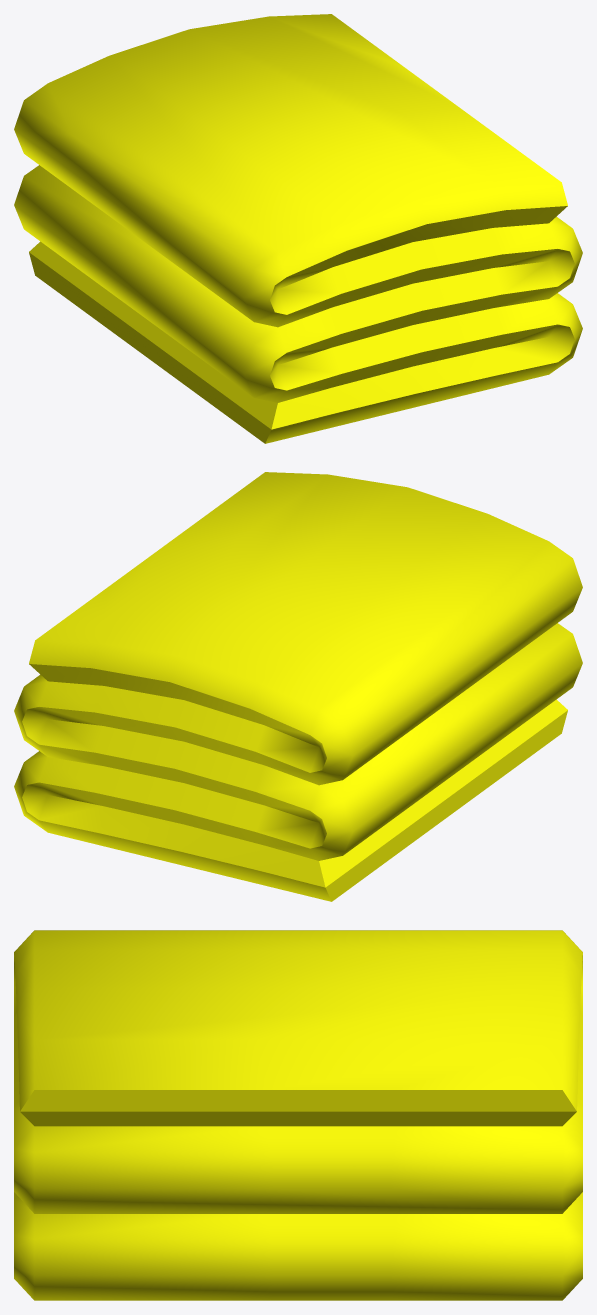
File: kaykit-textiles-a.glb
3 renders of one model, top to bottom at view 1: azimuth 30°, elevation 25°; view 2: azimuth 150°, elevation 25°; view 3: azimuth 270°, elevation 25°, orthographic. The views are drawn at different scales.
Visible parts, largest first — view 1: Textiles_A; view 2: Textiles_A; view 3: Textiles_A.
Boxes of the visible parts, x1,y1,x2,y2 form: Textiles_A: (14,14,582,443); Textiles_A: (14,472,582,901); Textiles_A: (14,930,582,1300).
Bounding box in the file's own units: 0.7501 × 0.4413 × 0.95.
